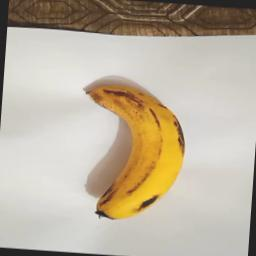Banana Unripe: (76, 78, 190, 223)
